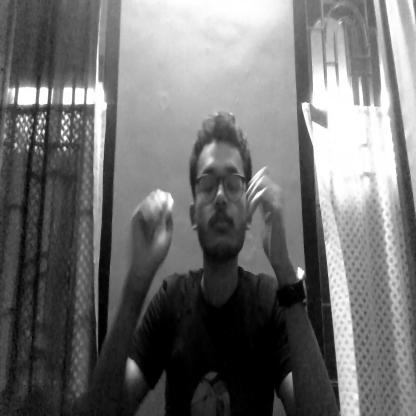Normal: (166, 114, 268, 287)
